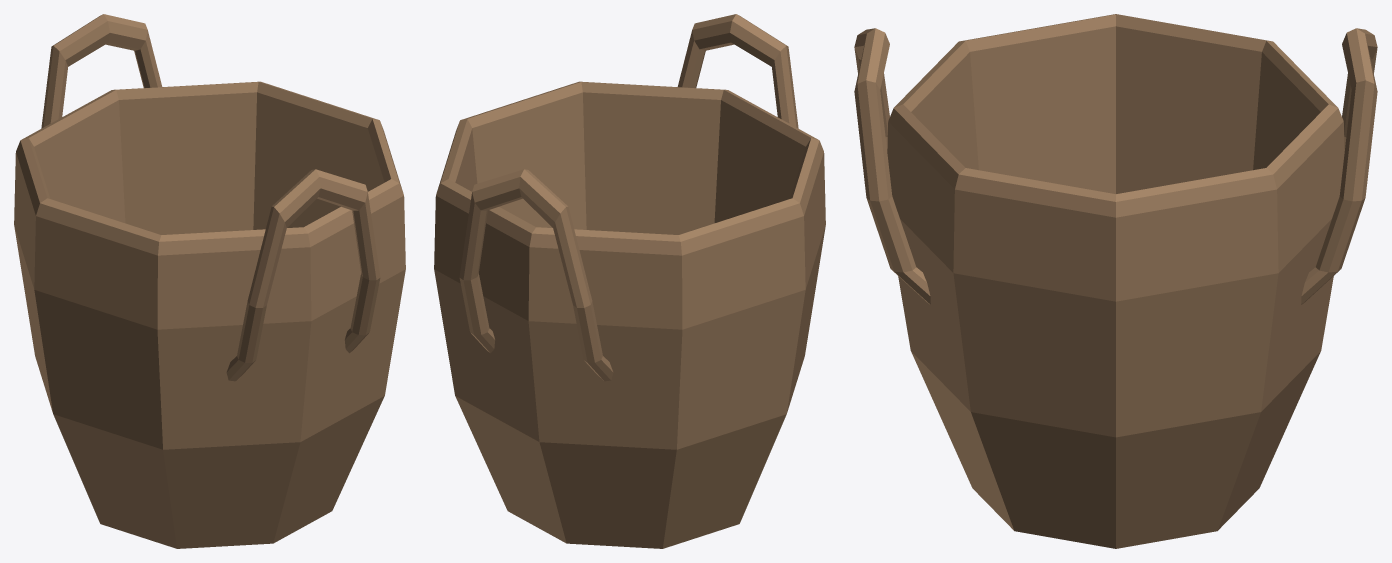
File: kosz_3.fbx
The picture shows the model from 3 angles, left to right: view 1: azimuth 30°, elevation 25°; view 2: azimuth 150°, elevation 25°; view 3: azimuth 270°, elevation 25°; orthographic projection. The views are drawn at different scales.
Parts seen in each view (by area): view 1: Cylinder.002; view 2: Cylinder.002; view 3: Cylinder.002.
Part boxes in pixels (bbox=[...]): Cylinder.002: bbox=[14, 14, 405, 548]; Cylinder.002: bbox=[434, 14, 825, 548]; Cylinder.002: bbox=[854, 14, 1377, 548].
Size of the model in its own units: 532 by 587 by 606.
